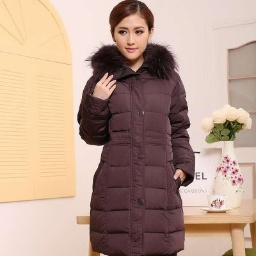face: (105, 1, 159, 63)
